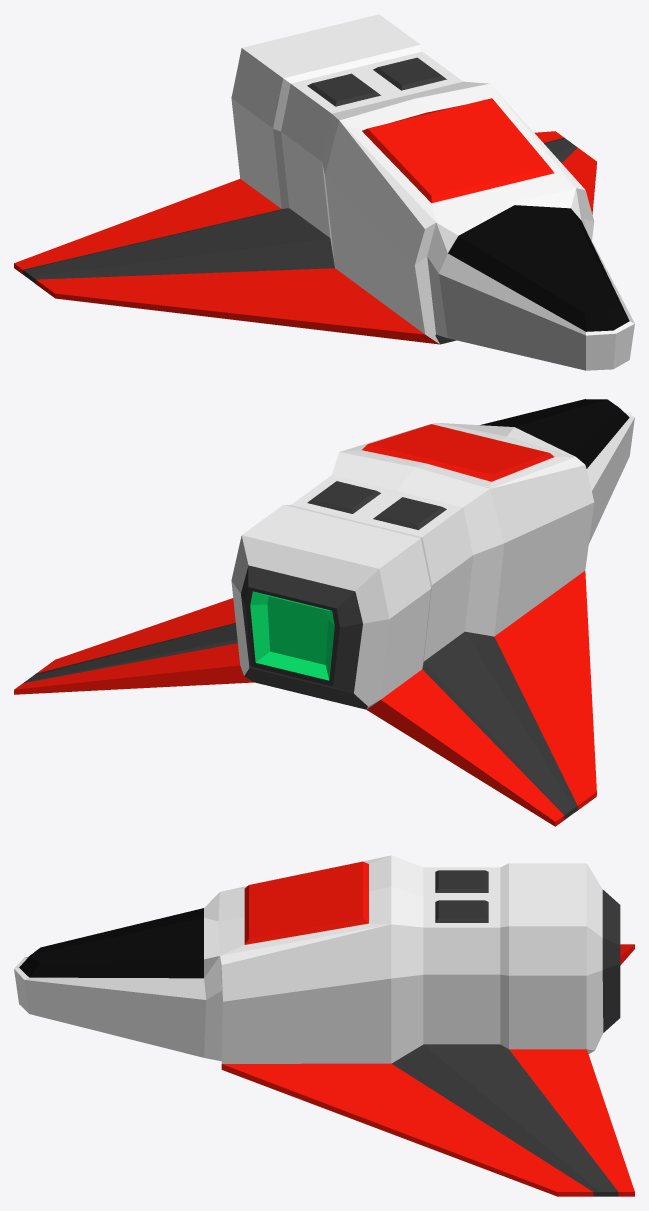
The model's file is Low_Poly_Spaceship_001.obj.
3 views of the same model, one above another, from view 1: azimuth 30°, elevation 25°; view 2: azimuth 150°, elevation 25°; view 3: azimuth 270°, elevation 25° (orthographic). The views are drawn at different scales.
Visible parts, largest first — view 1: Low_Poly_Spaceship_001_Cube; view 2: Low_Poly_Spaceship_001_Cube; view 3: Low_Poly_Spaceship_001_Cube.
Boxes of the visible parts, x1=… form: Low_Poly_Spaceship_001_Cube: x1=14, y1=14, x2=634, y2=370; Low_Poly_Spaceship_001_Cube: x1=14, y1=399, x2=634, y2=826; Low_Poly_Spaceship_001_Cube: x1=14, y1=855, x2=634, y2=1196.
Bounding box in the file's own units: 6.93 × 2.43 × 7.34.
